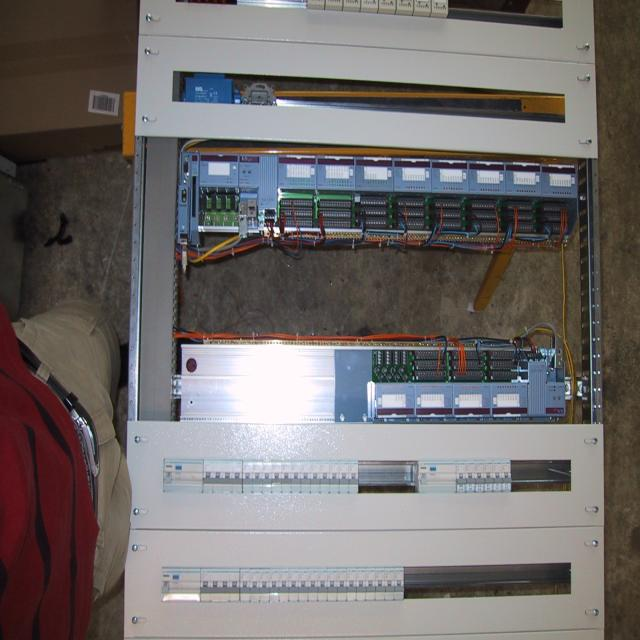FI_Sicherungskombi: (164, 459, 203, 494), (162, 567, 200, 602), (417, 462, 457, 492)
Klemmenleiste: (452, 348, 486, 381), (412, 346, 447, 378), (319, 199, 352, 230), (280, 199, 314, 229), (490, 349, 520, 381), (472, 200, 498, 232), (397, 198, 424, 228), (541, 202, 568, 232), (435, 199, 461, 229), (361, 197, 386, 227), (508, 202, 533, 230)
Leitungsschutzschalter: (290, 462, 302, 494), (338, 460, 349, 494), (222, 460, 232, 494), (252, 460, 262, 494), (272, 460, 282, 494), (209, 568, 219, 602), (220, 568, 230, 602), (250, 569, 260, 603), (269, 568, 279, 602), (278, 568, 288, 602), (242, 460, 252, 493), (230, 569, 240, 602), (240, 569, 250, 602), (212, 461, 222, 493), (281, 462, 291, 494), (349, 460, 359, 492), (466, 461, 476, 492), (310, 461, 319, 495), (201, 568, 210, 602), (318, 570, 328, 600), (262, 460, 271, 493), (301, 461, 310, 494), (329, 461, 338, 494), (289, 568, 298, 601), (308, 569, 317, 602), (385, 567, 394, 600), (320, 462, 329, 494), (260, 570, 269, 602), (299, 568, 308, 600), (356, 568, 365, 600), (366, 568, 375, 600), (475, 461, 484, 492), (502, 461, 511, 492), (395, 569, 404, 599), (204, 460, 212, 493), (233, 460, 241, 493), (338, 568, 346, 600), (329, 569, 337, 600), (347, 569, 355, 600), (493, 461, 501, 491), (376, 568, 383, 600), (485, 462, 492, 492), (458, 462, 464, 492)
SPS-System -Steuerungskomponente-: (238, 153, 278, 213), (318, 154, 357, 191), (414, 384, 454, 419), (278, 154, 317, 189), (452, 384, 492, 418), (541, 162, 577, 199), (377, 383, 415, 418), (201, 152, 236, 188), (432, 160, 471, 192), (506, 162, 541, 197), (356, 157, 394, 189), (471, 163, 506, 197), (394, 160, 431, 192), (492, 382, 527, 415)
Schaltkasten: (130, 2, 599, 640)
